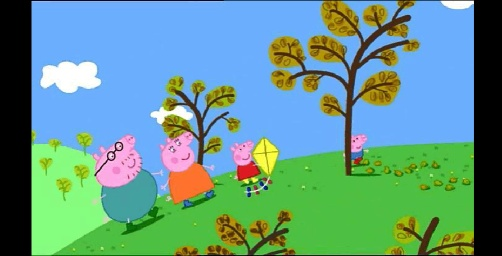Peppa: (229, 140, 262, 186)
